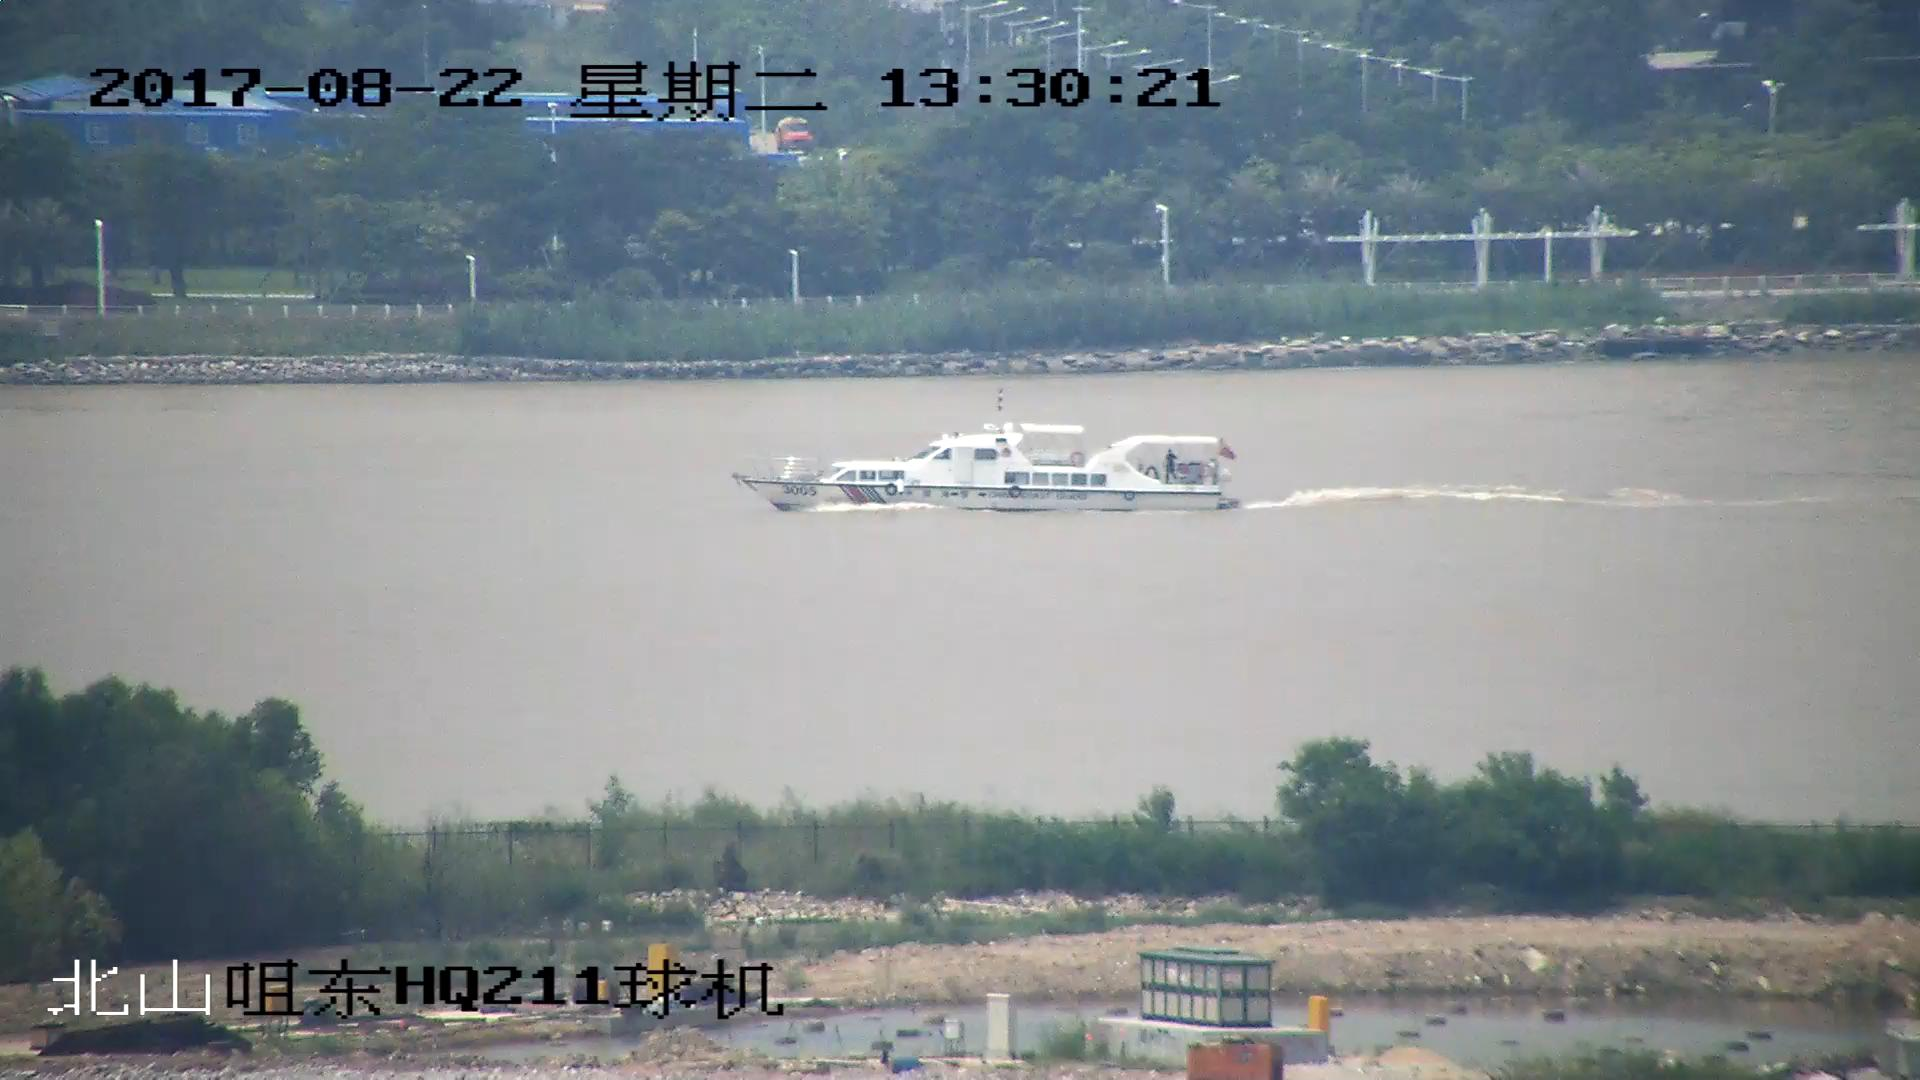passenger ship: (742, 417, 1238, 519)
